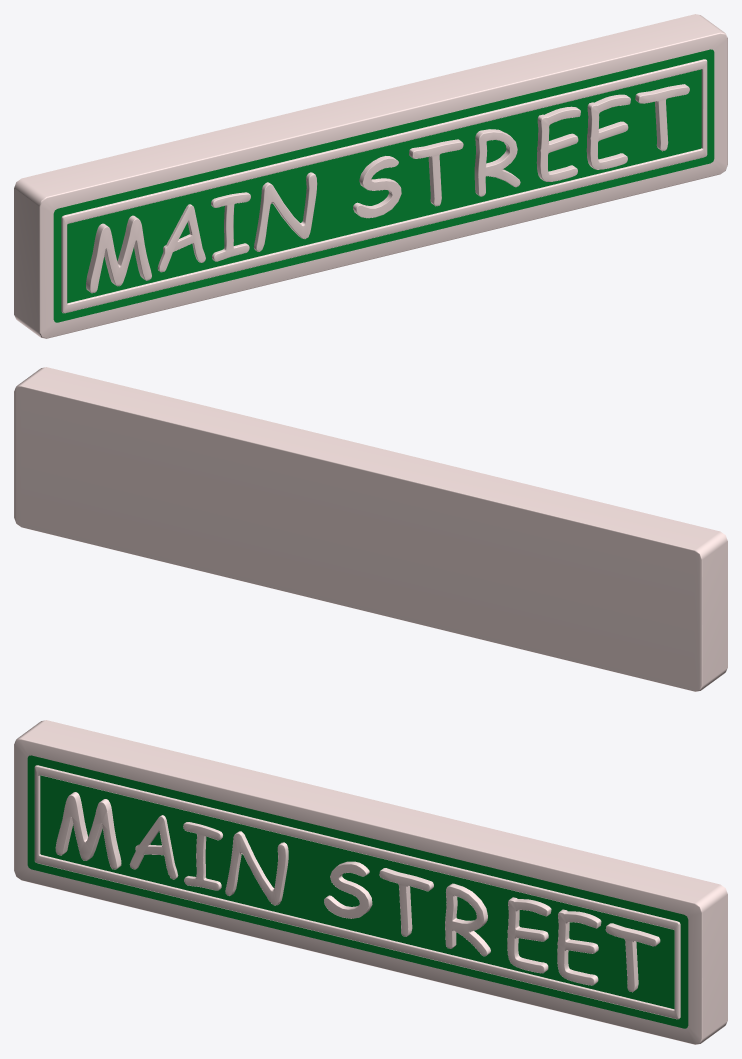
The model's file is City_7_Sign_2.glb.
The picture shows the model from 3 angles, top to bottom: view 1: azimuth 30°, elevation 25°; view 2: azimuth 150°, elevation 25°; view 3: azimuth 330°, elevation 25°; orthographic projection.
Parts seen in each view (by area): view 1: City_7_Sign_2; view 2: City_7_Sign_2; view 3: City_7_Sign_2.
Boxes of the visible parts, x1,y1,x2,y2 form: City_7_Sign_2: (14,14,727,338); City_7_Sign_2: (14,367,727,691); City_7_Sign_2: (14,720,727,1044).
Size of the model in its own units: 1.42 by 0.2794 by 0.1088.
Materials: 1 (1 with a texture image).
